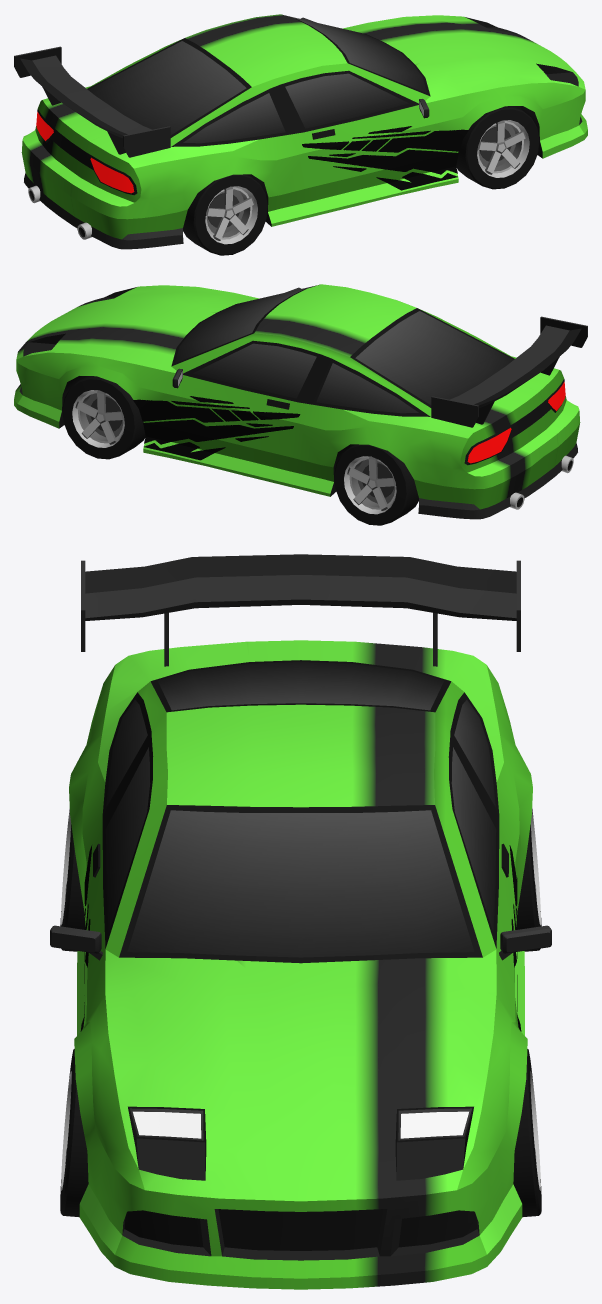
File: RaceCar_095.glb
3 renders of one model, top to bottom at view 1: azimuth 30°, elevation 25°; view 2: azimuth 150°, elevation 25°; view 3: azimuth 270°, elevation 25°, orthographic. The views are drawn at different scales.
Parts seen in each view (by area): view 1: RaceCar_095, wheel_3_RaceCar_095_Wheel_2R, wheel_1_RaceCar_095_Wheel_1R; view 2: RaceCar_095, wheel_2_RaceCar_095_Wheel_2L, wheel_0_RaceCar_095_Wheel_1L; view 3: RaceCar_095, wheel_0_RaceCar_095_Wheel_1L, wheel_1_RaceCar_095_Wheel_1R, wheel_2_RaceCar_095_Wheel_2L, wheel_3_RaceCar_095_Wheel_2R.
Part boxes in pixels (bbox=[...]): RaceCar_095: bbox=[14, 14, 587, 249]; wheel_3_RaceCar_095_Wheel_2R: bbox=[183, 174, 267, 255]; wheel_1_RaceCar_095_Wheel_1R: bbox=[456, 106, 539, 189]; RaceCar_095: bbox=[14, 284, 587, 519]; wheel_2_RaceCar_095_Wheel_2L: bbox=[334, 444, 418, 525]; wheel_0_RaceCar_095_Wheel_1L: bbox=[62, 376, 145, 459]; RaceCar_095: bbox=[50, 554, 551, 1289]; wheel_0_RaceCar_095_Wheel_1L: bbox=[513, 1049, 541, 1217]; wheel_1_RaceCar_095_Wheel_1R: bbox=[60, 1049, 88, 1217]; wheel_2_RaceCar_095_Wheel_2L: bbox=[516, 808, 541, 951]; wheel_3_RaceCar_095_Wheel_2R: bbox=[60, 809, 85, 951].
Bounding box in the file's own units: 4.38 × 1.23 × 1.89.
Materials: 4 (4 with a texture image).
